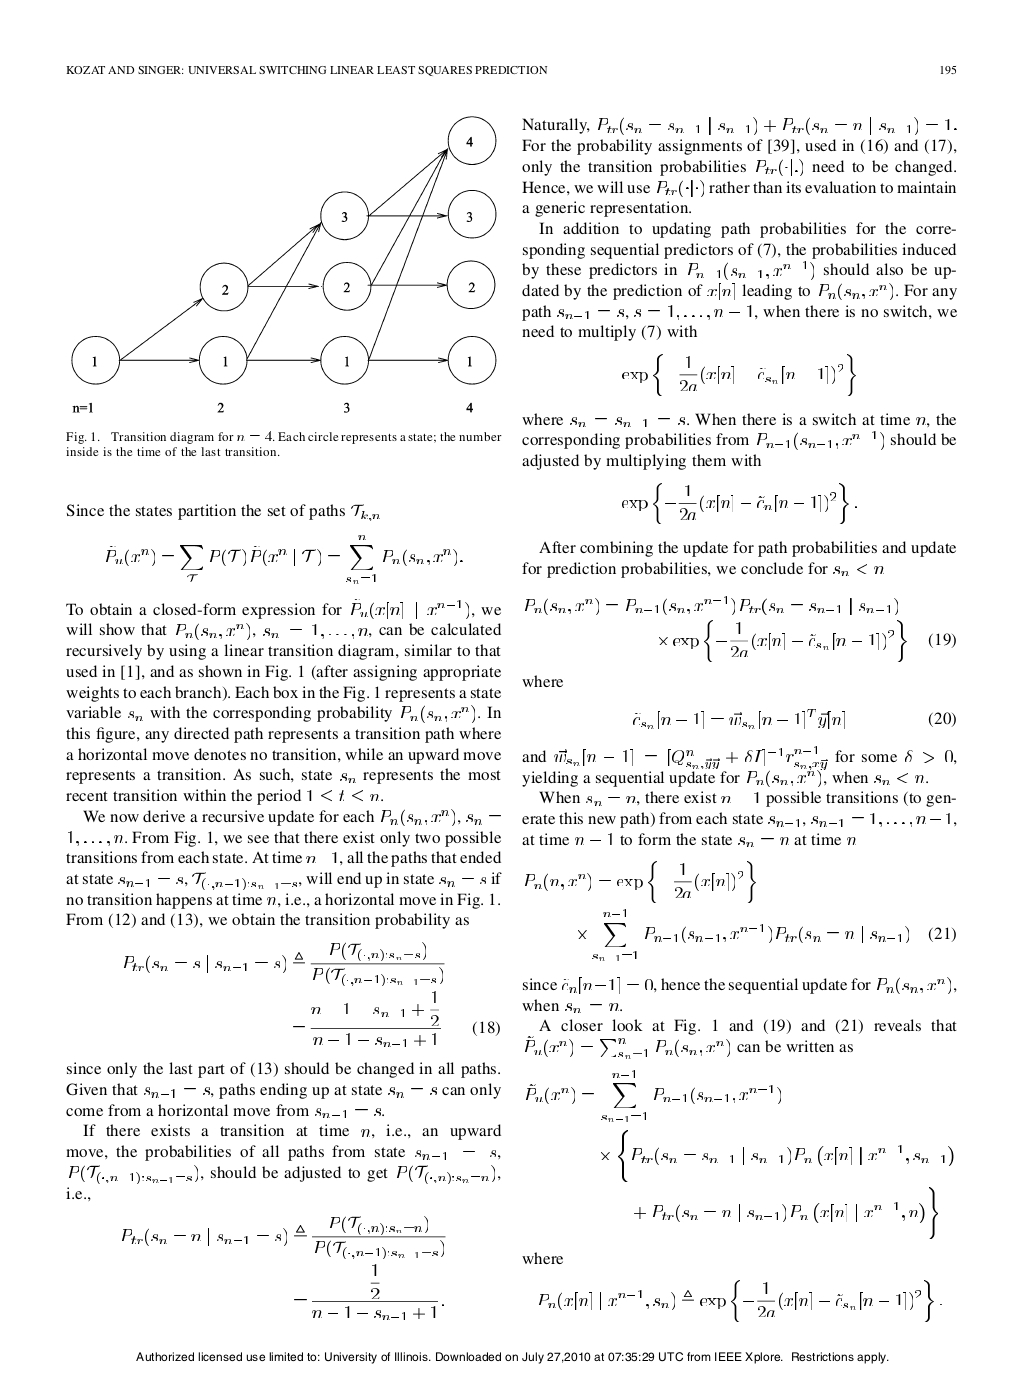figure: (71, 116, 496, 412)
formula: (578, 909, 955, 960), (600, 1128, 953, 1181), (539, 1278, 941, 1322), (106, 534, 462, 583), (634, 1185, 937, 1239), (122, 1215, 445, 1259), (124, 941, 444, 986), (526, 1070, 780, 1121), (659, 619, 955, 662), (293, 990, 499, 1047), (622, 352, 855, 396), (525, 860, 755, 903), (622, 481, 856, 524), (294, 1264, 443, 1319), (525, 595, 897, 615), (633, 708, 955, 729)
